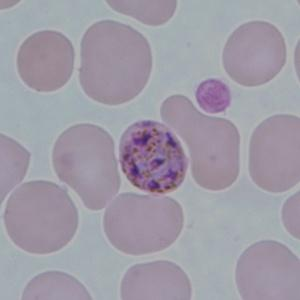Infected: (118, 120, 188, 195)
Uninfected: (161, 93, 241, 191), (79, 20, 151, 107), (54, 123, 122, 212), (4, 179, 78, 255), (102, 190, 182, 256), (222, 21, 287, 87), (249, 112, 300, 193), (235, 239, 300, 300), (16, 27, 75, 92), (118, 261, 194, 300)
